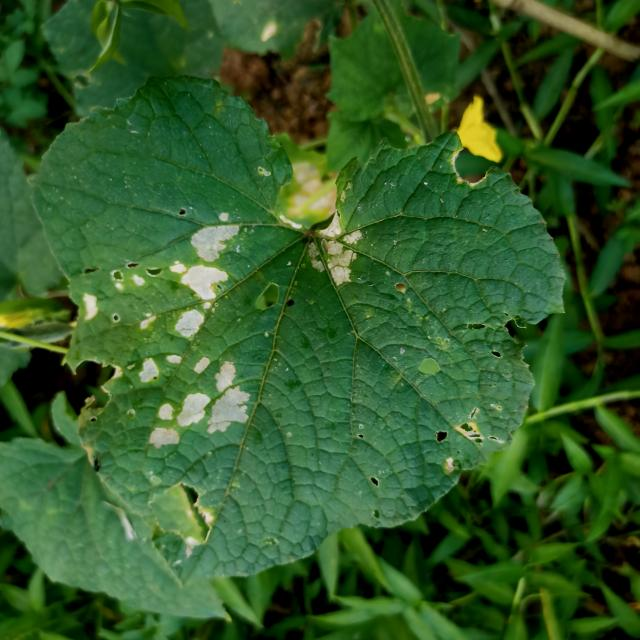disease_cucumber: (69, 209, 250, 348), (118, 347, 259, 469), (303, 199, 372, 290)
